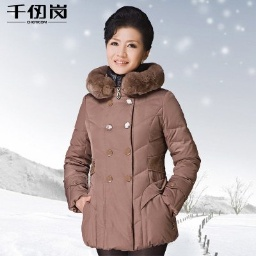face: (102, 5, 156, 74)
